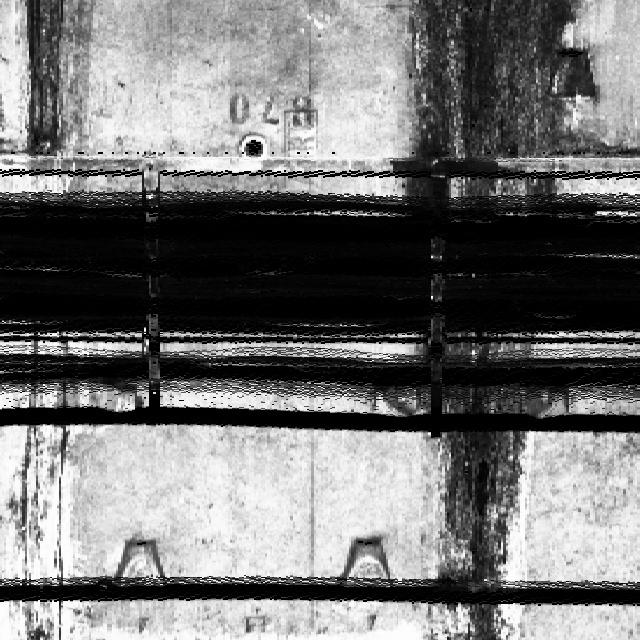leakage: (389, 333, 537, 639), (397, 0, 586, 205), (0, 0, 102, 192)
